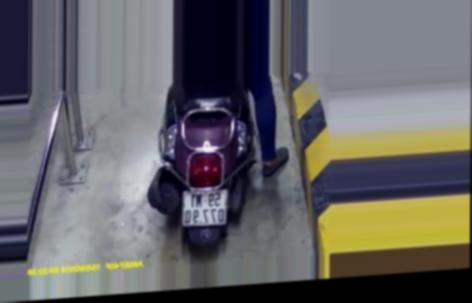License_Plate: (177, 184, 235, 231)
